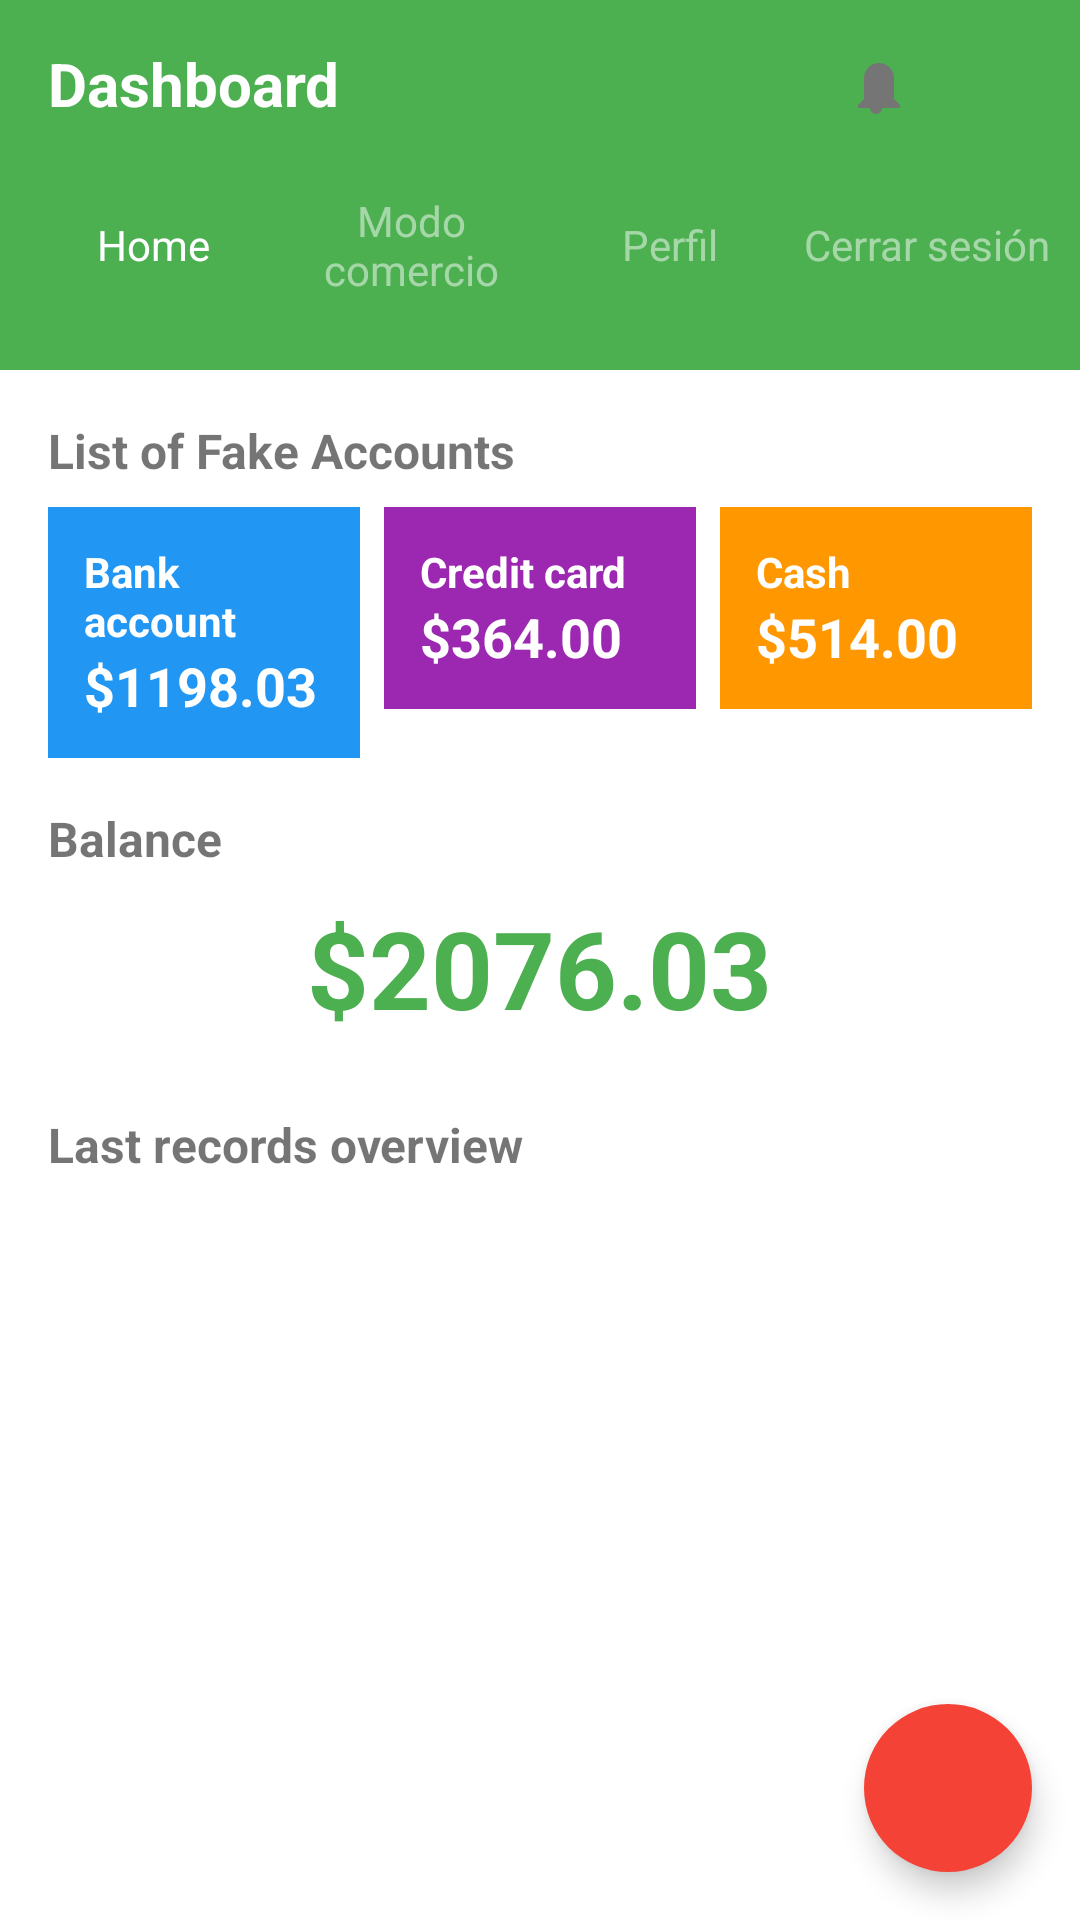

Icon click points for this 1080w x 1920h phone screenshot, format (x,y):
Notificaciones: (879,88)
